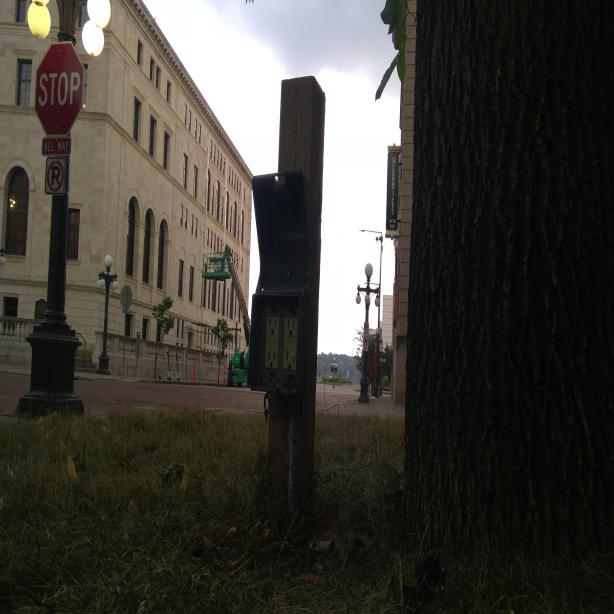typeb: (265, 346, 278, 370), (266, 315, 279, 337), (284, 317, 296, 339), (284, 350, 296, 370)
